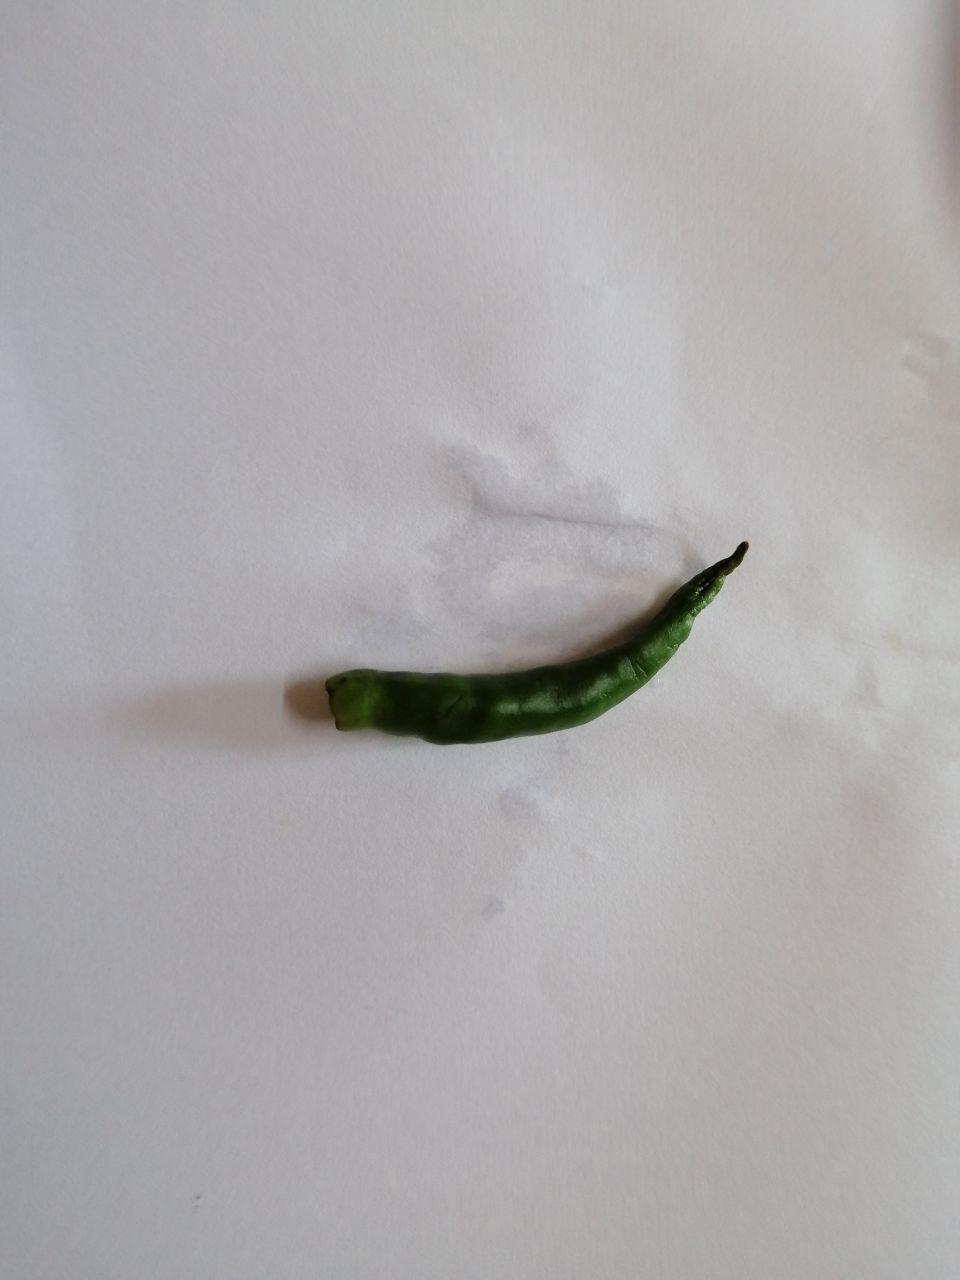lada hijau: (292, 517, 777, 766)
